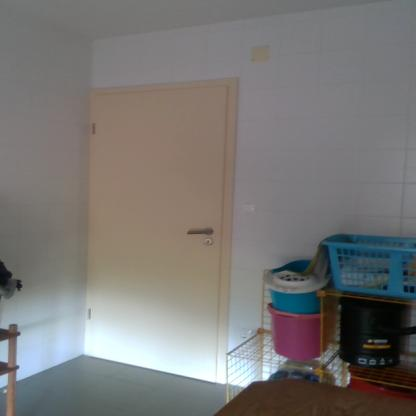closed: (76, 76, 240, 370)
